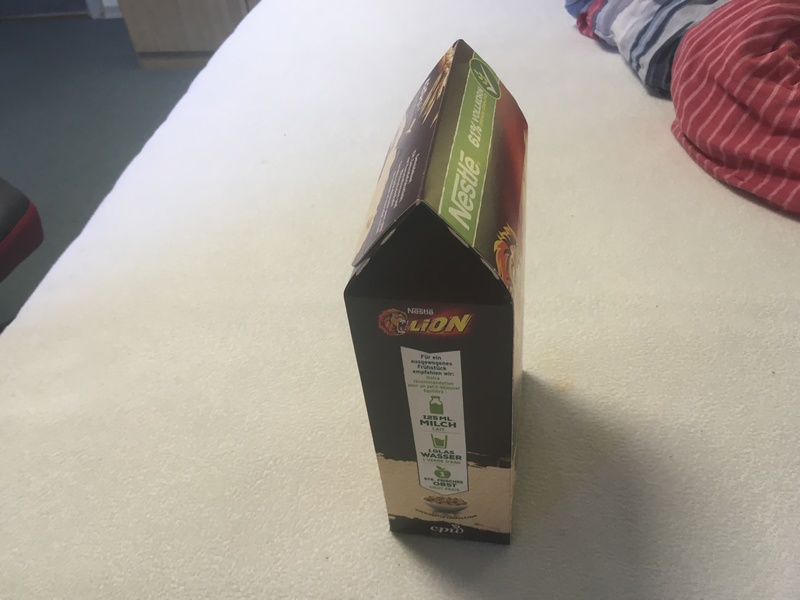cereals: (344, 41, 529, 549)
